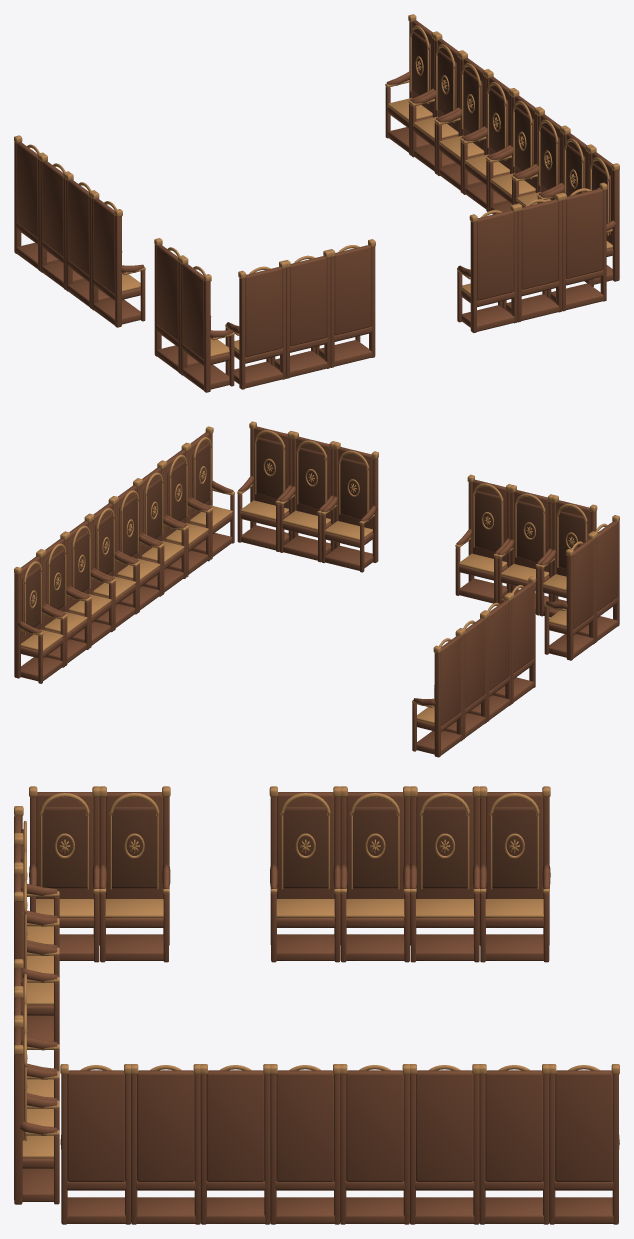
Rendered from skete-stalls.glb.
The picture shows the model from 3 angles, top to bottom: view 1: azimuth 30°, elevation 25°; view 2: azimuth 150°, elevation 25°; view 3: azimuth 270°, elevation 25°; orthographic projection. The views are drawn at different scales.
Visible parts, largest first — view 1: oak joinery.017, oak joinery.014, oak joinery.018, oak joinery.016, oak joinery.015, oak joinery.019, oak joinery.011, oak joinery.013, oak joinery.008, oak joinery.012, oak joinery.009, oak joinery.010 (+22 smaller); view 2: oak joinery.012, oak joinery.008, oak joinery.017, oak joinery.016, oak joinery.019, oak joinery.018, oak joinery, oak joinery.011, oak joinery.009, oak joinery.013, oak joinery.010, oak joinery.015 (+36 smaller); view 3: oak joinery.004, oak joinery.001, oak joinery.005, oak joinery, oak joinery.003, oak joinery.006, oak joinery.007, oak joinery.002, oak joinery.010, oak joinery.012, oak joinery.011, oak joinery.008 (+26 smaller).
Boxes of the visible parts, x1,y1,x2,y2 form: oak joinery.017: [457, 210, 517, 332]; oak joinery.014: [225, 266, 285, 389]; oak joinery.018: [502, 199, 562, 322]; oak joinery.016: [315, 245, 375, 367]; oak joinery.015: [271, 256, 330, 378]; oak joinery.019: [547, 188, 606, 311]; oak joinery.011: [91, 198, 145, 327]; oak joinery.013: [180, 263, 234, 392]; oak joinery.008: [14, 141, 60, 270]; oak joinery.012: [154, 244, 200, 373]; oak joinery.009: [40, 160, 85, 289]; oak joinery.010: [66, 179, 111, 308]; oak joinery.012: [544, 539, 595, 660]; oak joinery.008: [412, 635, 462, 757]; oak joinery.017: [321, 447, 378, 572]; oak joinery.016: [455, 479, 510, 603]; oak joinery.019: [237, 426, 292, 551]; oak joinery.018: [279, 436, 334, 562]; oak joinery: [14, 556, 65, 683]; oak joinery.011: [492, 582, 535, 704]; oak joinery.009: [444, 618, 487, 739]; oak joinery.013: [576, 521, 619, 642]; oak joinery.010: [468, 600, 511, 721]; oak joinery.015: [497, 490, 552, 615]; oak joinery.004: [270, 1070, 340, 1224]; oak joinery.001: [479, 1070, 549, 1224]; oak joinery.005: [200, 1070, 270, 1224]; oak joinery: [549, 1070, 619, 1224]; oak joinery.003: [340, 1070, 409, 1224]; oak joinery.006: [131, 1070, 200, 1224]; oak joinery.007: [60, 1070, 130, 1224]; oak joinery.002: [410, 1070, 479, 1224]; oak joinery.010: [340, 792, 410, 962]; oak joinery.012: [99, 792, 170, 962]; oak joinery.011: [270, 792, 340, 962]; oak joinery.008: [480, 792, 550, 962].
Bounding box in the file's own units: 17.4 × 4.55 × 15.83.
